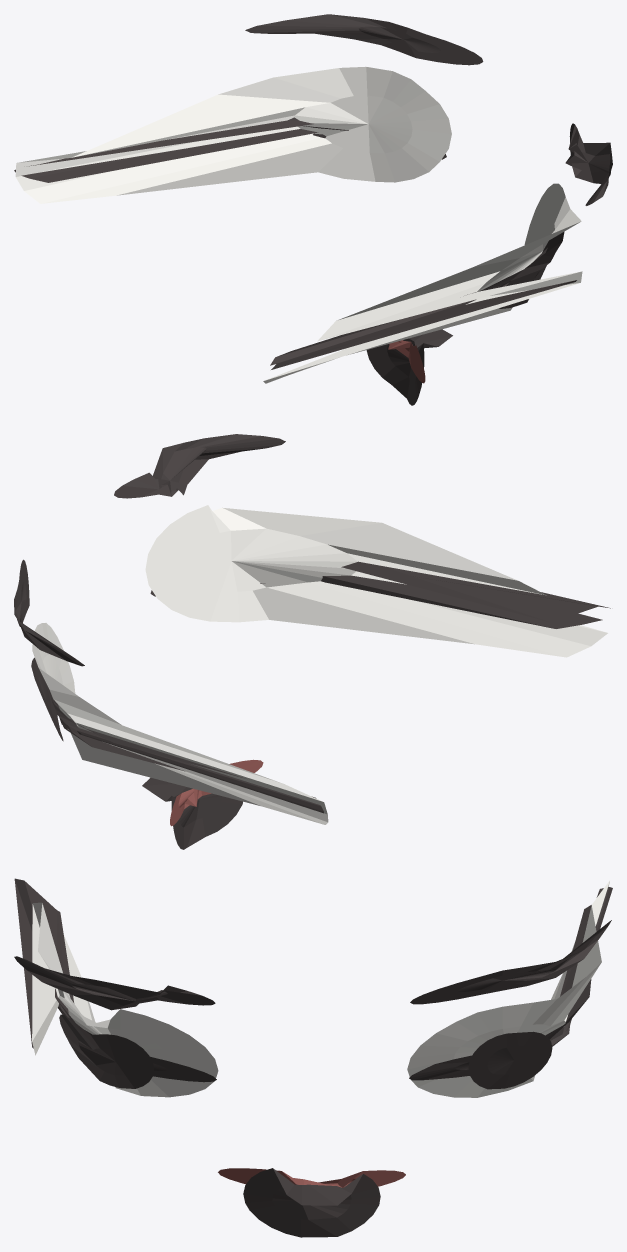
The model's file is char_player_face.glb.
3 views of the same model, one above another, from view 1: azimuth 30°, elevation 25°; view 2: azimuth 150°, elevation 25°; view 3: azimuth 270°, elevation 25° (orthographic). The views are drawn at different scales.
Parts seen in each view (by area): view 1: eye_white_L, eye_white_R, brow_L, eye_closed_L, eye_closed_R, mouth_open, brow_R, pupil_R, mouth_line; view 2: eye_white_R, eye_white_L, eye_closed_R, brow_R, eye_closed_L, mouth_open, brow_L, mouth_line, pupil_L; view 3: eye_white_R, eye_white_L, mouth_open, pupil_R, pupil_L, eye_closed_R, brow_R, brow_L, eye_closed_L, mouth_line.
Boxes of the visible parts, left/top/right/bottom form: eye_white_L: left=15, top=66, right=451, bottom=203; eye_white_R: left=263, top=183, right=582, bottom=383; brow_L: left=245, top=14, right=483, bottom=65; eye_closed_L: left=14, top=117, right=446, bottom=182; eye_closed_R: left=270, top=244, right=576, bottom=369; mouth_open: left=366, top=329, right=452, bottom=405; brow_R: left=565, top=123, right=612, bottom=205; pupil_R: left=499, top=232, right=564, bottom=308; mouth_line: left=388, top=340, right=425, bottom=383; eye_white_R: left=145, top=505, right=607, bottom=657; eye_white_L: left=32, top=623, right=328, bottom=824; eye_closed_R: left=150, top=561, right=610, bottom=628; brow_R: left=114, top=434, right=285, bottom=498; eye_closed_L: left=48, top=687, right=323, bottom=813; mouth_open: left=142, top=777, right=242, bottom=849; brow_L: left=14, top=559, right=84, bottom=666; mouth_line: left=170, top=759, right=263, bottom=826; pupil_L: left=31, top=657, right=63, bottom=741; eye_white_R: left=32, top=902, right=218, bottom=1097; eye_white_L: left=407, top=880, right=609, bottom=1097; mouth_open: left=243, top=1168, right=380, bottom=1237; pupil_R: left=59, top=1014, right=154, bottom=1088; pupil_L: left=468, top=1031, right=552, bottom=1089; eye_closed_R: left=14, top=878, right=216, bottom=1082; brow_R: left=14, top=956, right=215, bottom=1010; brow_L: left=410, top=920, right=611, bottom=1004; eye_closed_L: left=409, top=887, right=612, bottom=1080; mouth_line: left=218, top=1168, right=405, bottom=1187.
Bounding box in the file's own units: 0.0559 × 0.0388 × 0.0659.
